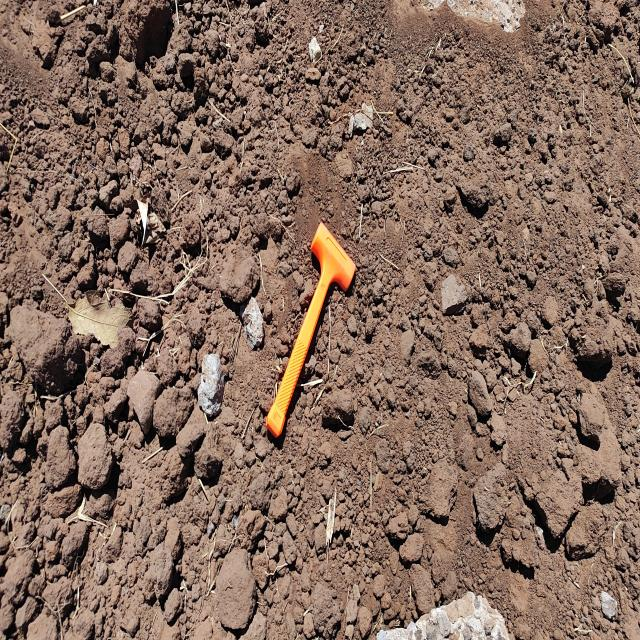Orange_hammer: (265, 220, 356, 439)
